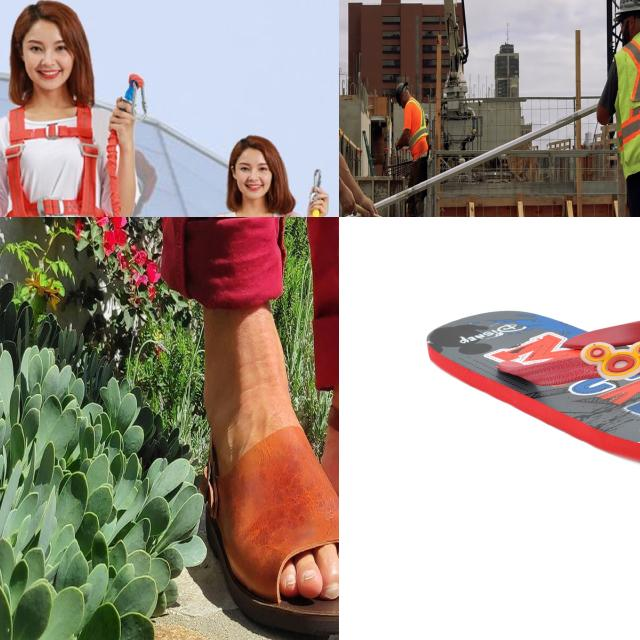Harness: (0, 136, 133, 217)
Sandals: (424, 309, 640, 474), (199, 415, 339, 634)
head_helmet: (613, 0, 640, 14)
person: (588, 0, 640, 217), (392, 81, 429, 217)
vest: (615, 32, 640, 179), (403, 98, 429, 160)
